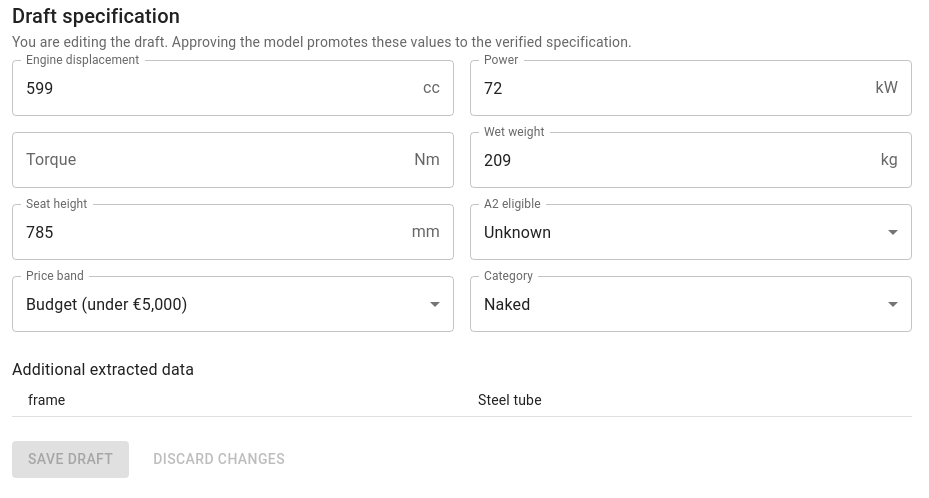
Test: ModelSpecsPanel › keeps save and discard disabled until something changes
Expected: the button "Save draft" is disabled, 12,441 -> 129,478
Expected: the button "Discard changes" is disabled, 145,441 -> 293,478
Type "63" into the number field labelled "Torque" at (209, 160), box 12,132 -> 406,188
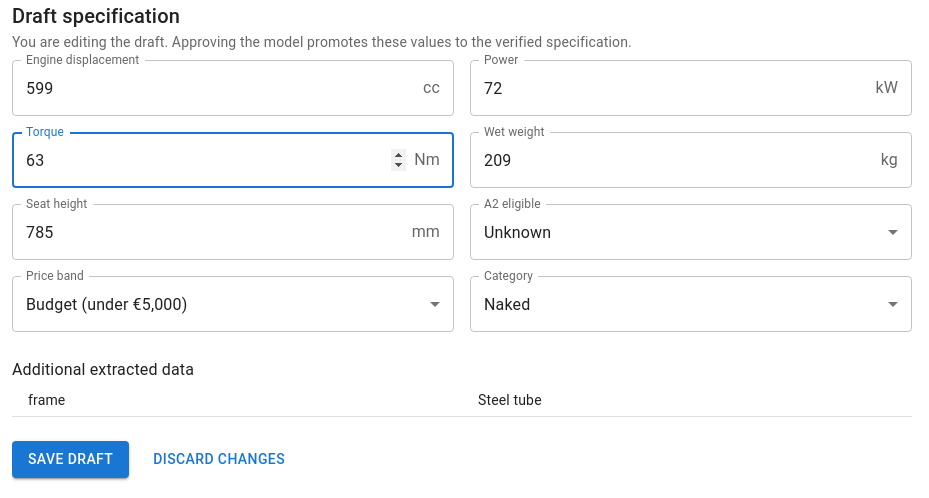
Now the button "Save draft" is enabled, box 12,441 -> 129,478
# Discarding restores the fetched draft and disables both buttons again.
Click the button "Discard changes" at (219, 459), box 145,441 -> 293,478
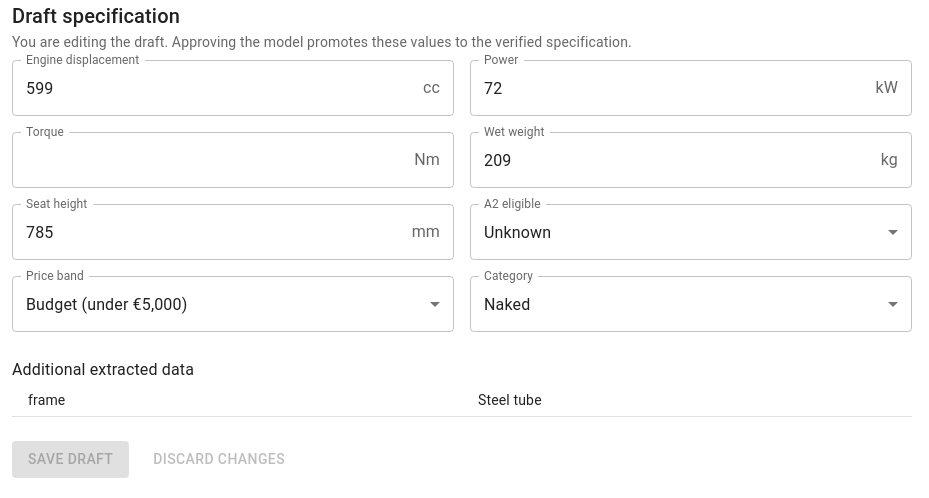
Now the number field labelled "Torque" is not empty, box 12,132 -> 406,188
Now the button "Save draft" is disabled, box 12,441 -> 129,478
